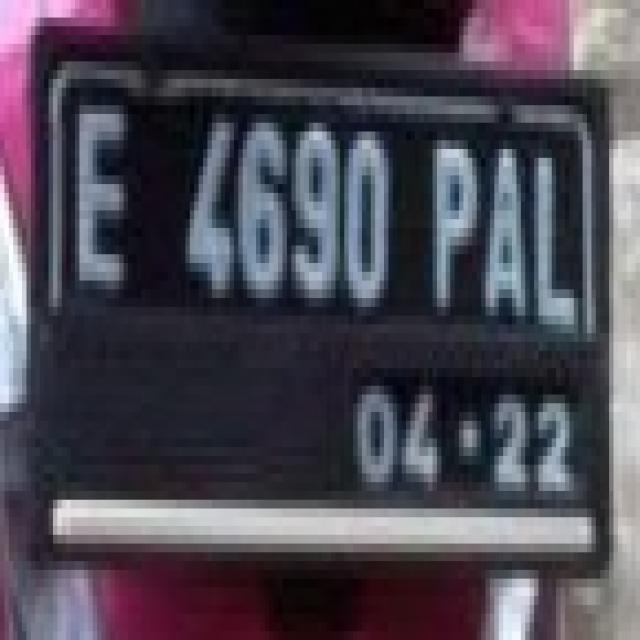plate: (40, 26, 604, 518)
